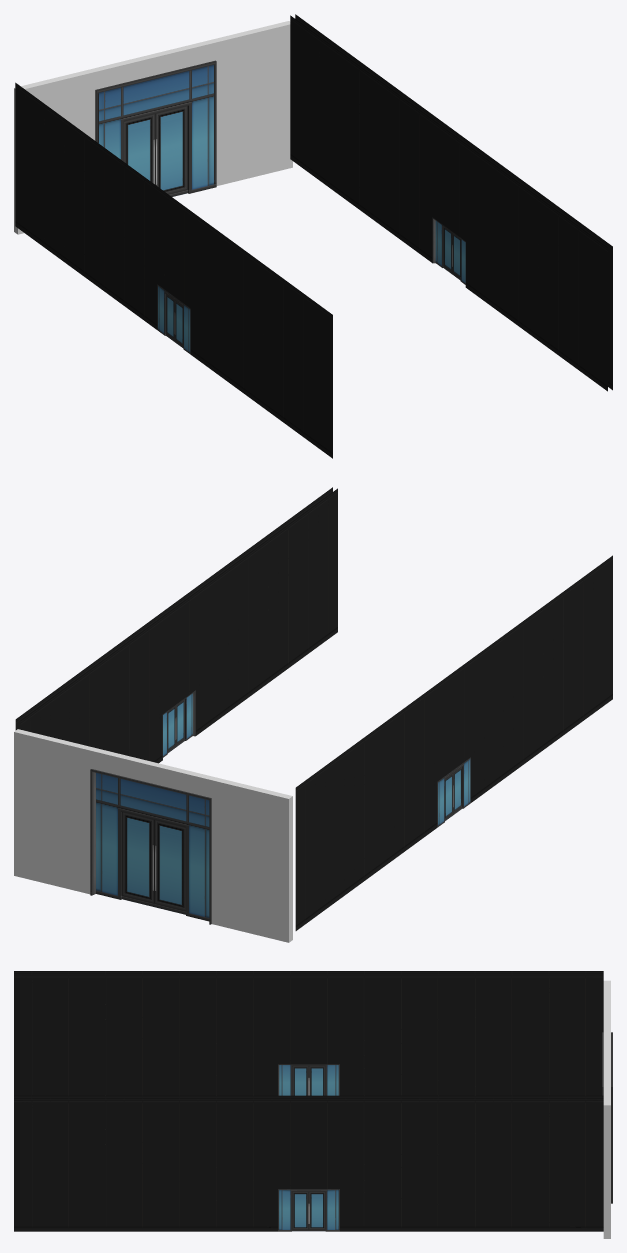
The model's file is BlueChip_Interior(2 Obj).fbx.
3 renders of one model, top to bottom at view 1: azimuth 30°, elevation 25°; view 2: azimuth 150°, elevation 25°; view 3: azimuth 270°, elevation 25°, orthographic. The views are drawn at different scales.
Parts seen in each view (by area): view 1: Partition_16m.002, Partition_16m.001, Wall_16m_tp1_External_Door, Porch_Door_011.002, Porch_Door_011_Flap_Right.002, Porch_Door_011_Flap_Left.002, Wall_16m_tp1_Middle_Door, Porch_Door_011.001, Porch_Door_011; view 2: Partition_16m.001, Partition_16m.002, Wall_16m_tp1_Internal_Door, Porch_Door_011.002, Porch_Door_011_Flap_Right.002, Porch_Door_011_Flap_Left.002, Wall_16m_tp1_Middle_Door, Porch_Door_011.001, Porch_Door_011; view 3: Partition_16m.002, Partition_16m.001, Wall_16m_tp1_Middle_Door, Porch_Door_011, Porch_Door_011.001, Porch_Door_011_Flap_Left, Porch_Door_011_Flap_Right, Porch_Door_011_Flap_Left.001, Porch_Door_011_Flap_Right.001, Porch_Door_011.002.
Boxes of the visible parts, x1,y1,x2,y2 form: Partition_16m.002: [290, 14, 612, 391]; Partition_16m.001: [15, 82, 332, 458]; Wall_16m_tp1_External_Door: [18, 24, 292, 234]; Porch_Door_011.002: [95, 60, 216, 193]; Porch_Door_011_Flap_Right.002: [155, 106, 187, 196]; Porch_Door_011_Flap_Left.002: [124, 114, 155, 184]; Wall_16m_tp1_Middle_Door: [14, 21, 290, 234]; Porch_Door_011.001: [157, 284, 190, 354]; Porch_Door_011: [432, 217, 465, 287]; Partition_16m.001: [295, 555, 612, 930]; Partition_16m.002: [15, 487, 337, 763]; Wall_16m_tp1_Internal_Door: [14, 732, 288, 942]; Porch_Door_011.002: [90, 769, 211, 924]; Porch_Door_011_Flap_Right.002: [122, 812, 154, 906]; Porch_Door_011_Flap_Left.002: [154, 820, 185, 914]; Wall_16m_tp1_Middle_Door: [14, 729, 292, 942]; Porch_Door_011.001: [437, 757, 470, 827]; Porch_Door_011: [162, 690, 195, 759]; Partition_16m.002: [14, 1095, 603, 1231]; Partition_16m.001: [14, 971, 603, 1095]; Wall_16m_tp1_Middle_Door: [603, 980, 610, 1238]; Porch_Door_011: [278, 1189, 339, 1231]; Porch_Door_011.001: [278, 1064, 339, 1095]; Porch_Door_011_Flap_Left: [292, 1192, 308, 1231]; Porch_Door_011_Flap_Right: [309, 1192, 325, 1231]; Porch_Door_011_Flap_Left.001: [309, 1066, 325, 1095]; Porch_Door_011_Flap_Right.001: [292, 1066, 308, 1095]; Porch_Door_011.002: [602, 1032, 612, 1203].
Size of the model in its own units: 1629 by 850 by 3250.
